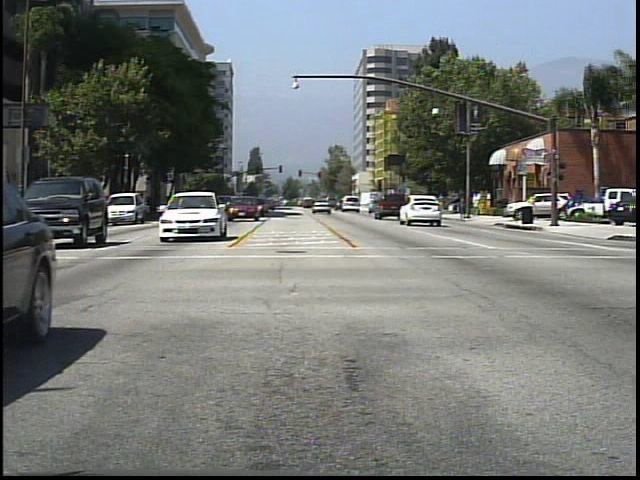person: (436, 192, 449, 219), (472, 191, 485, 218)
